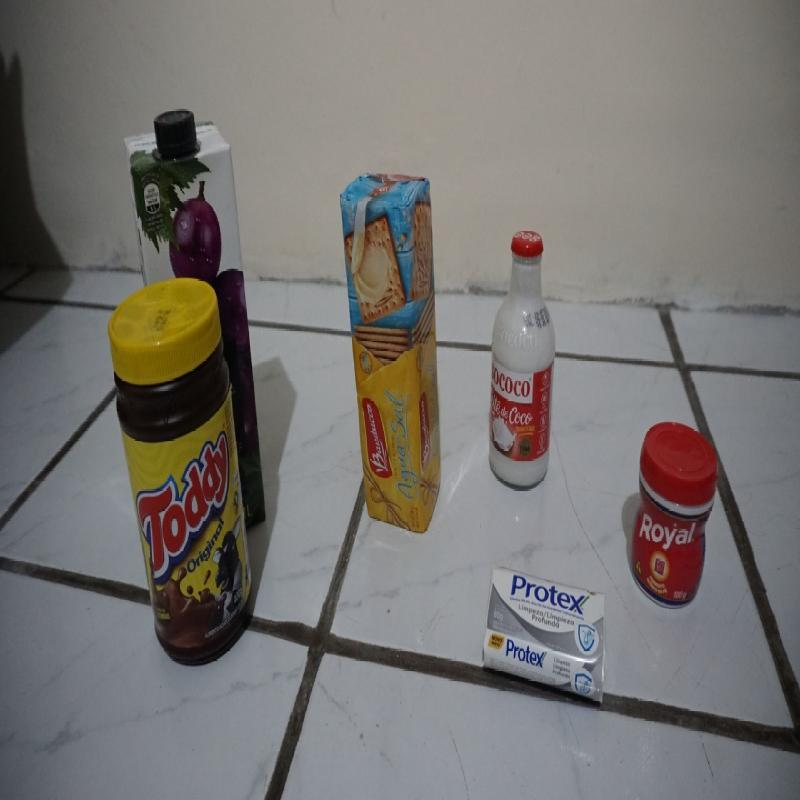Chocolate Powder: (104, 278, 256, 669)
Coconut Milk: (489, 227, 558, 492)
Cracker: (338, 171, 442, 533)
Soap: (479, 558, 608, 716)
Yeast: (628, 420, 720, 619)
